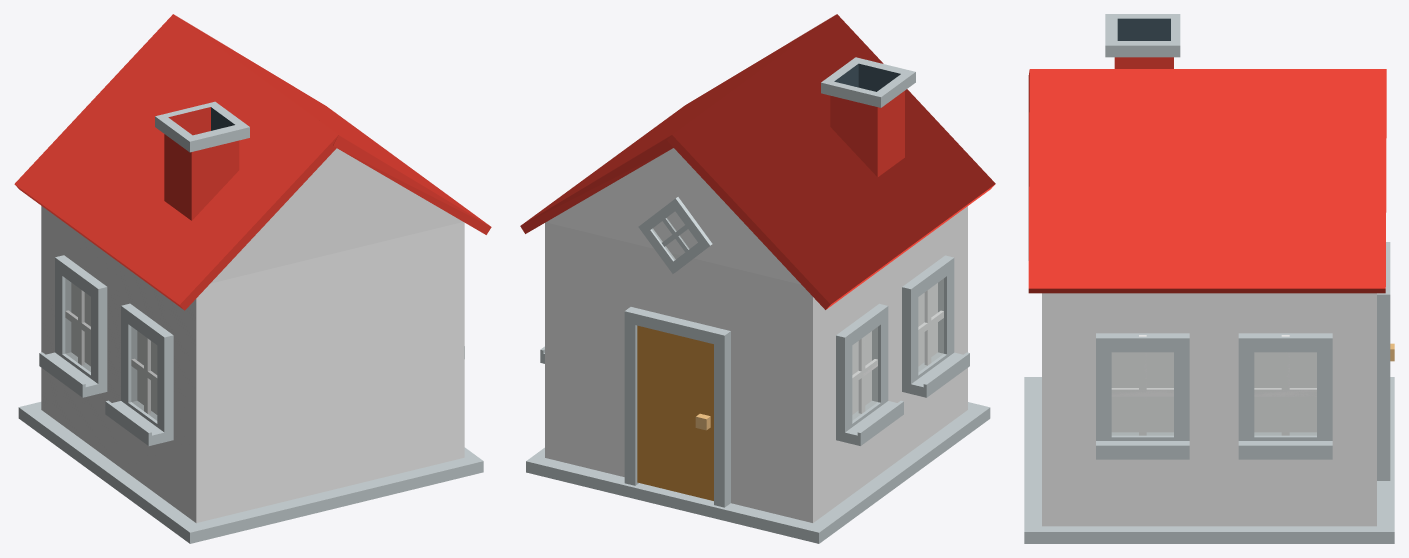
Rendered from house.glb.
3 renders of one model, left to right at view 1: azimuth 30°, elevation 25°; view 2: azimuth 150°, elevation 25°; view 3: azimuth 270°, elevation 25°, orthographic. The views are drawn at different scales.
Visible parts, largest first — view 1: House; view 2: House; view 3: House.
Boxes of the visible parts, x1,y1,x2,y2 form: House: (14, 14, 491, 543); House: (520, 14, 995, 543); House: (1024, 14, 1394, 543).
Size of the model in its own units: 0.89 by 0.9884 by 0.83.
